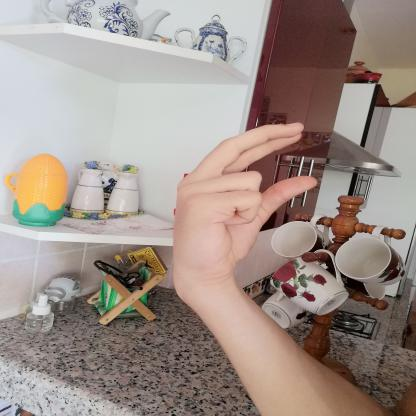DHELL: (158, 113, 326, 283)
